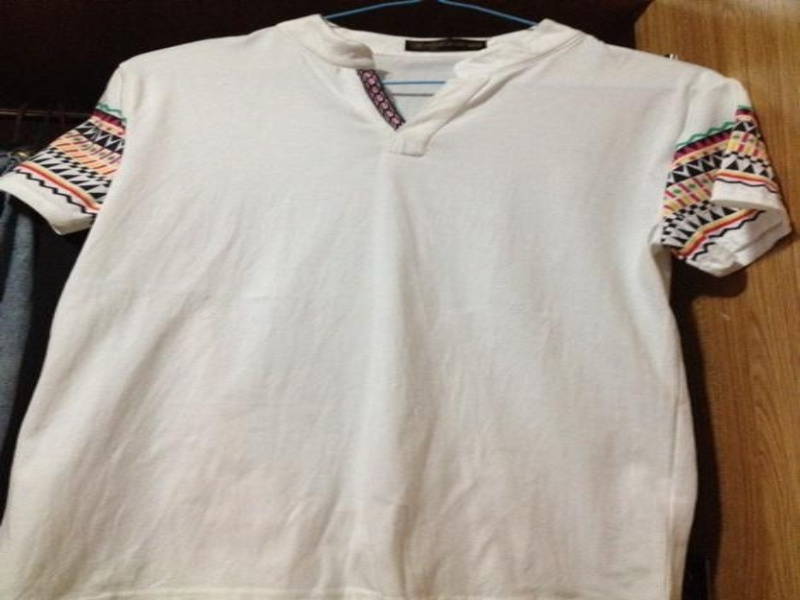short_sleeved_shirt: (0, 12, 795, 599)
